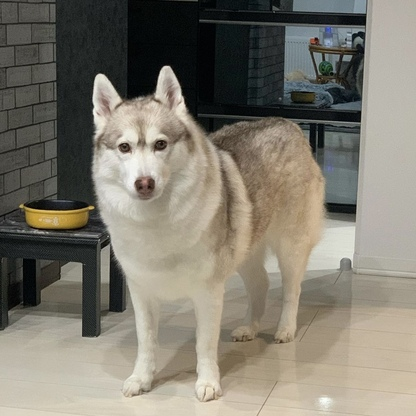husky: (85, 62, 332, 405)
